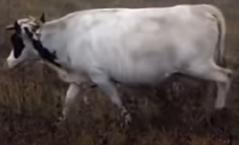cow: (4, 5, 234, 129)
